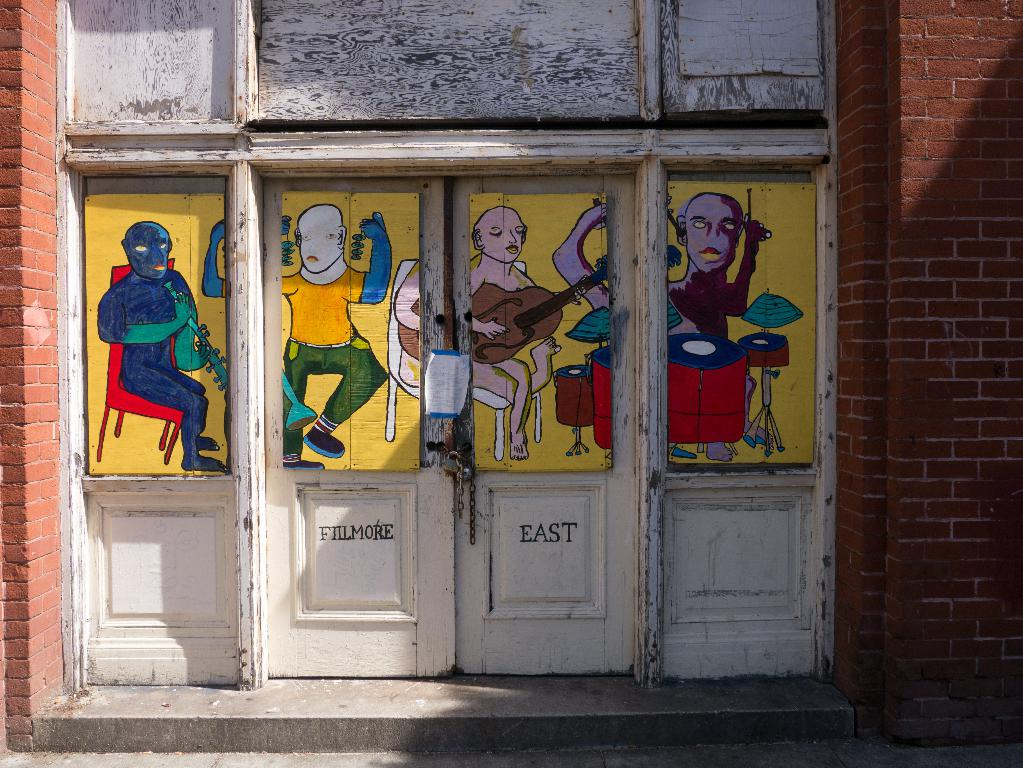door: (462, 189, 647, 659), (262, 188, 445, 656)
handle: (451, 450, 479, 484)
